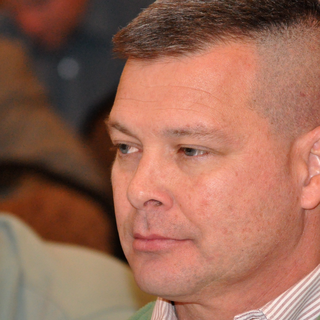eye: (164, 140, 214, 162), (109, 136, 144, 163)
